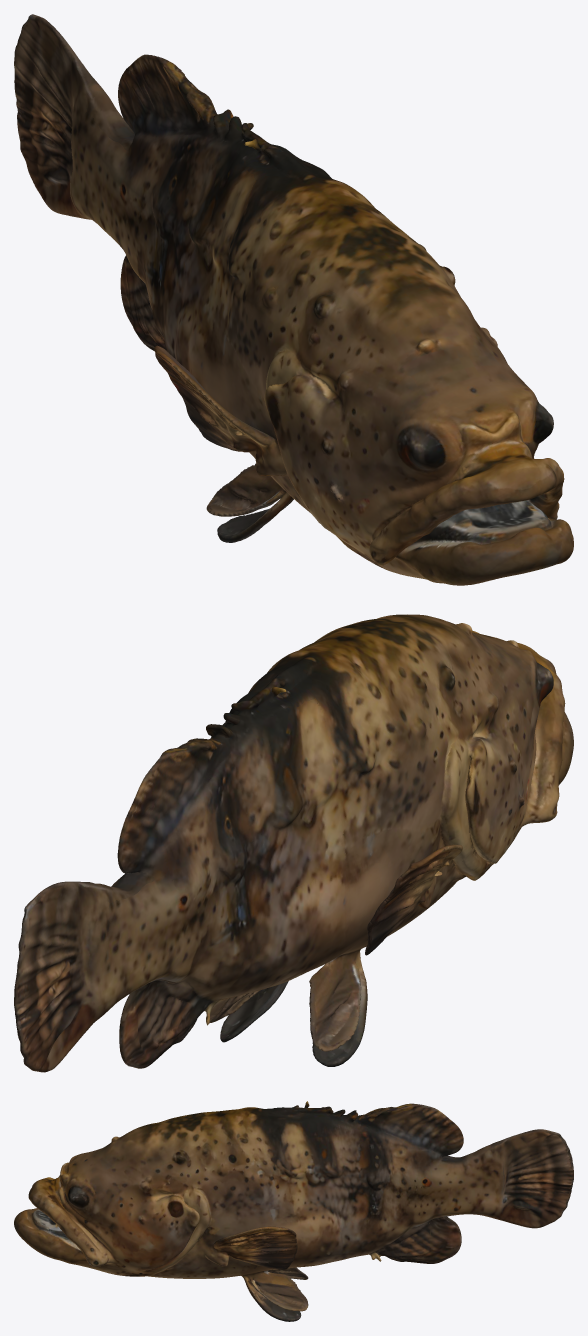
The model's file is goliath_a_specimen.glb.
3 views of the same model, one above another, from view 1: azimuth 30°, elevation 25°; view 2: azimuth 150°, elevation 25°; view 3: azimuth 270°, elevation 25° (orthographic). The views are drawn at different scales.
Parts seen in each view (by area): view 1: tripo_node_aefa7ce1-54c0-4584-9437-ecd893472924; view 2: tripo_node_aefa7ce1-54c0-4584-9437-ecd893472924; view 3: tripo_node_aefa7ce1-54c0-4584-9437-ecd893472924.
Boxes of the visible parts, bbox=[...] form: tripo_node_aefa7ce1-54c0-4584-9437-ecd893472924: bbox=[14, 14, 573, 585]; tripo_node_aefa7ce1-54c0-4584-9437-ecd893472924: bbox=[14, 614, 573, 1072]; tripo_node_aefa7ce1-54c0-4584-9437-ecd893472924: bbox=[14, 1101, 573, 1321].
Bounding box in the file's own units: 0.3032 × 0.4001 × 1.
Materials: 1 (1 with a texture image).
